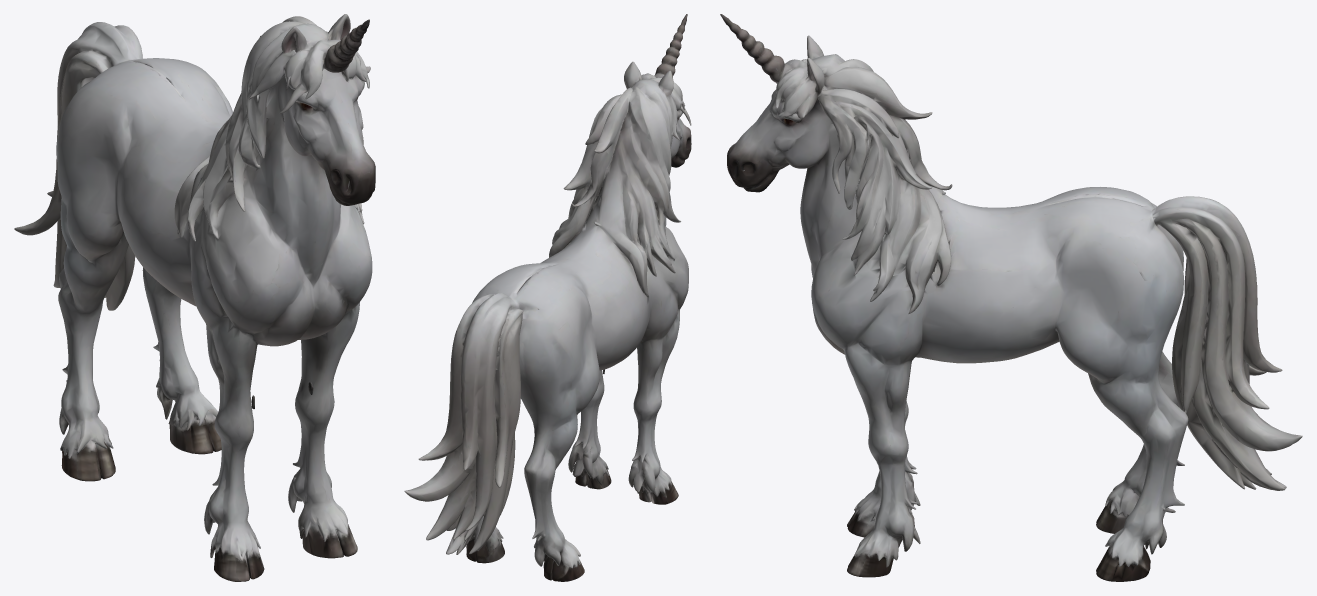
Rendered from detail_13.glb.
3 renders of one model, left to right at view 1: azimuth 30°, elevation 25°; view 2: azimuth 150°, elevation 25°; view 3: azimuth 270°, elevation 25°, orthographic. The views are drawn at different scales.
Bounding box in the file's own units: 0.2858 × 1 × 0.9884.
Materials: 1 (1 with a texture image).
